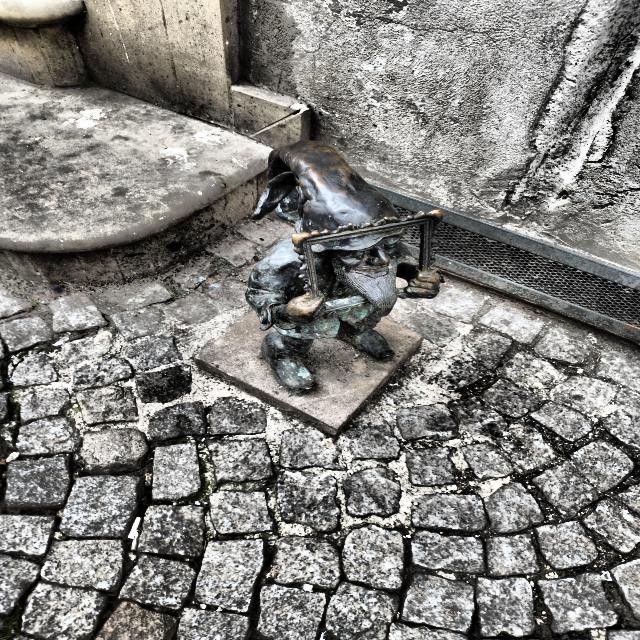Galeriusz: (247, 141, 442, 392)
